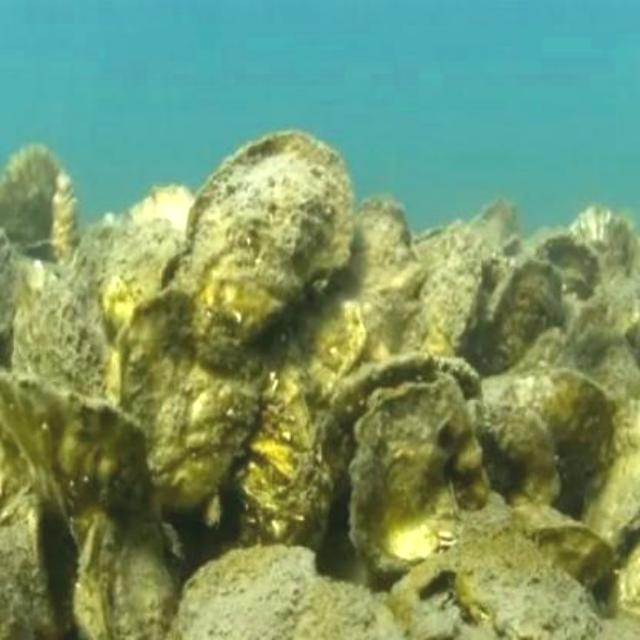Oyster-Closed: (13, 388, 177, 640), (110, 290, 267, 518), (187, 128, 350, 335), (309, 366, 482, 516), (351, 399, 493, 567), (160, 546, 411, 640), (233, 368, 330, 547), (505, 371, 619, 512), (454, 533, 604, 640), (331, 200, 424, 356), (7, 289, 114, 399), (399, 256, 514, 355), (72, 217, 163, 342), (471, 261, 563, 372), (266, 293, 364, 395), (475, 403, 563, 508), (0, 147, 74, 262), (514, 505, 615, 585), (587, 404, 640, 547), (130, 185, 199, 267), (573, 207, 637, 276), (534, 236, 604, 297), (428, 590, 458, 612)
